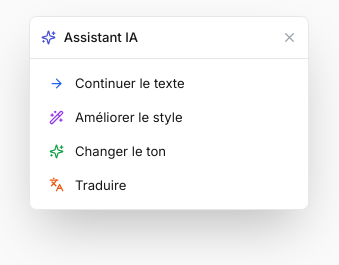
it: AIContextMenu › Result Handling › should show result after AI processing
This screenshot has width=339, height=265.
Click the button "Continuer le texte". click: point(169, 84)
box: x1=38 y1=67 x2=300 y2=101
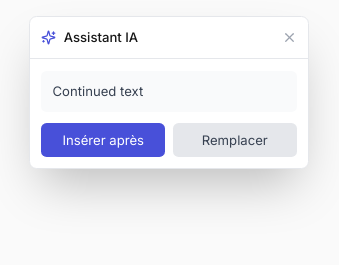
Check: the text "Continued text" is shown, box x1=41 y1=70 x2=297 y2=112
